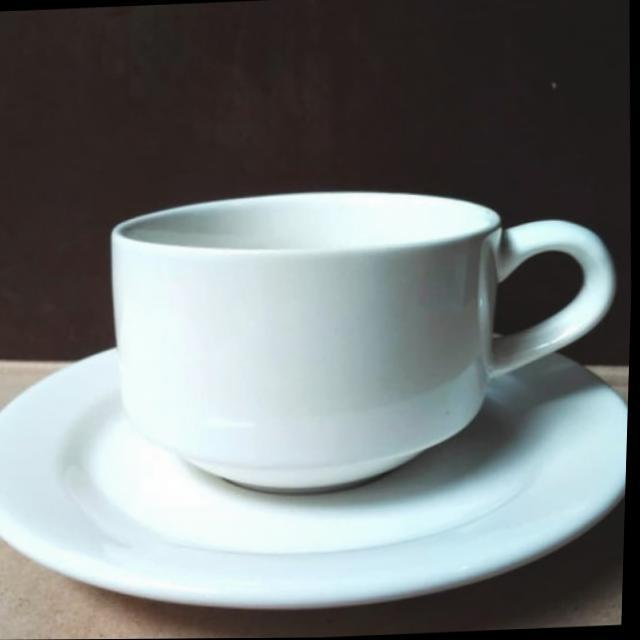cup: (0, 165, 636, 637)
